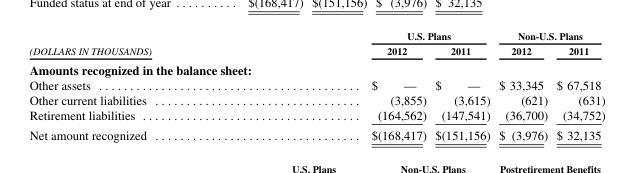table: (28, 29, 604, 141)
table column: (28, 29, 260, 141), (260, 29, 430, 141), (430, 29, 493, 141), (493, 29, 551, 141), (551, 29, 604, 141)
table column header: (28, 29, 604, 59)
table projected row header: (28, 59, 604, 77)
table row: (28, 59, 604, 77), (28, 42, 604, 59), (28, 107, 604, 124), (28, 124, 604, 141), (28, 77, 604, 92), (28, 92, 604, 107), (28, 29, 604, 42)
table spanning cell: (28, 29, 260, 59), (260, 29, 493, 42), (493, 29, 604, 42)
